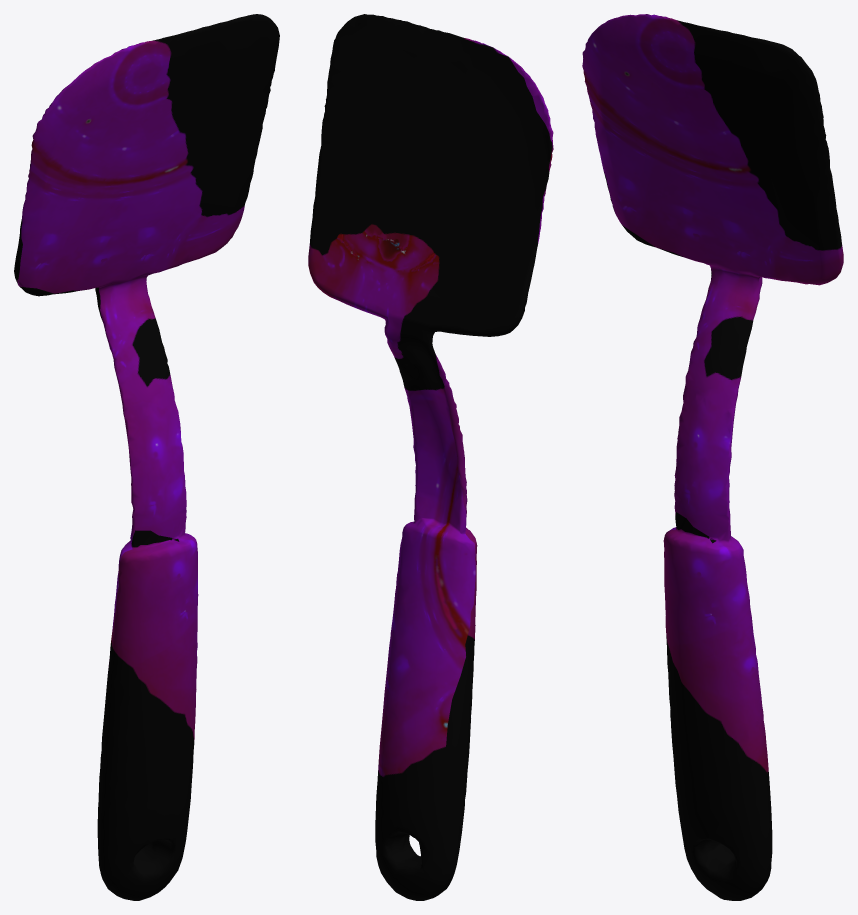
The picture shows the model from 3 angles, left to right: view 1: azimuth 30°, elevation 25°; view 2: azimuth 150°, elevation 25°; view 3: azimuth 330°, elevation 25°; orthographic projection. The views are drawn at different scales.
Visible parts, largest first — view 1: model.019; view 2: model.019; view 3: model.019.
Boxes of the visible parts, x1,y1,x2,y2 form: model.019: (14, 14, 279, 900); model.019: (308, 14, 553, 900); model.019: (582, 14, 843, 900).
Size of the model in its own units: 0.0679 by 0.2401 by 0.0247.
